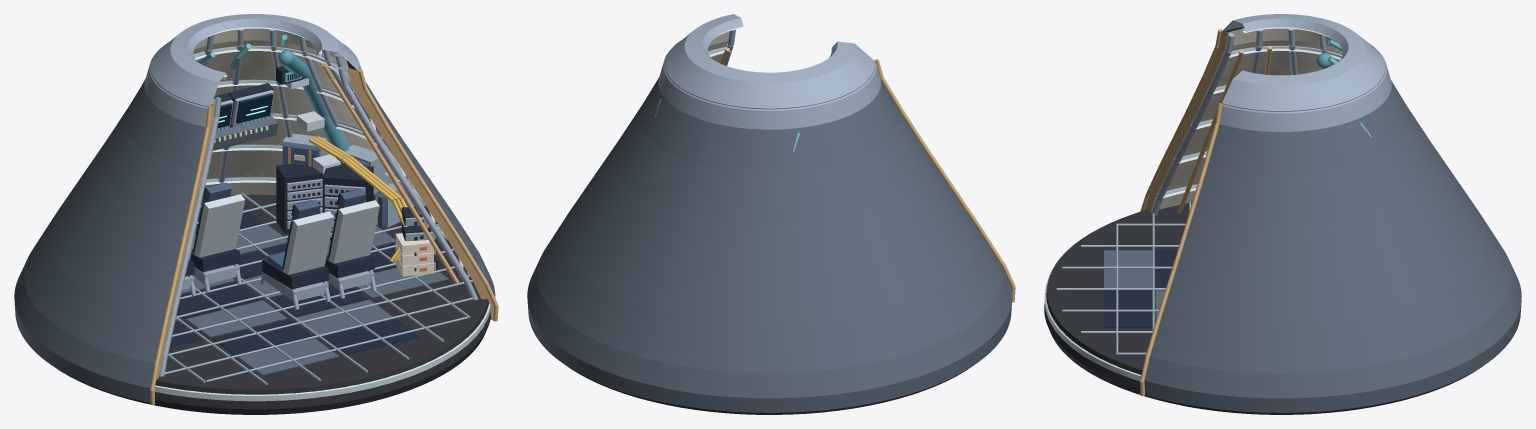
File: orion-cabin.glb
The picture shows the model from 3 angles, left to right: view 1: azimuth 30°, elevation 25°; view 2: azimuth 150°, elevation 25°; view 3: azimuth 270°, elevation 25°; orthographic projection.
Visible parts, largest first — view 1: Casco presurizado y capas del corte, Asientos, anclajes y arneses, Aviónica y consolas, Ventilación, retorno y sensores de cabina, Bolsas y compartimentos de estiba, Canalización eléctrica y compartimentos, Extintor y equipos de respuesta; view 2: Casco presurizado y capas del corte; view 3: Casco presurizado y capas del corte.
Part boxes in pixels (box(x1,y1,x2,y2)): Casco presurizado y capas del corte: box(14, 14, 498, 414); Asientos, anclajes y arneses: box(182, 182, 379, 309); Aviónica y consolas: box(213, 83, 373, 240); Ventilación, retorno y sensores de cabina: box(143, 34, 349, 174); Bolsas y compartimentos de estiba: box(282, 133, 405, 227); Canalización eléctrica y compartimentos: box(309, 136, 438, 271); Extintor y equipos de respuesta: box(395, 233, 433, 276); Casco presurizado y capas del corte: box(527, 14, 1015, 414); Casco presurizado y capas del corte: box(1044, 14, 1521, 414).
Size of the model in its own units: 5.01 by 3.09 by 4.98.
